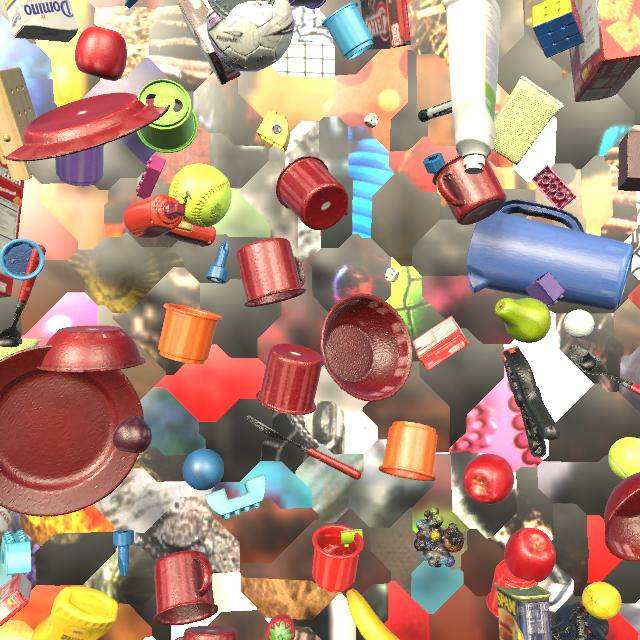ycb_002_master_chef_can: (207, 0, 275, 20)
ycb_003_cracker_box: (569, 0, 640, 102), (0, 160, 25, 298)
ycb_004_sugar_box: (4, 0, 78, 42)
ycb_005_tomato_soup_can: (0, 506, 14, 546)
ycb_006_mustard_bottle: (31, 586, 119, 640)
ycb_008_pudding_box: (176, 0, 241, 85), (360, 0, 411, 50)
ycb_009_gelatin_box: (413, 316, 469, 371), (0, 573, 32, 627)
ycb_010_potted_meat_can: (494, 582, 552, 640)
ycb_011_banana: (346, 589, 400, 640)
ycb_012_strawberry: (267, 614, 296, 640)
ycb_013_apple: (504, 527, 556, 583), (75, 26, 127, 81), (463, 454, 514, 504)
ycb_014_lemon: (582, 582, 621, 620)
ycb_016_pear: (495, 298, 551, 343)
ycb_018_plum: (113, 416, 152, 453)
